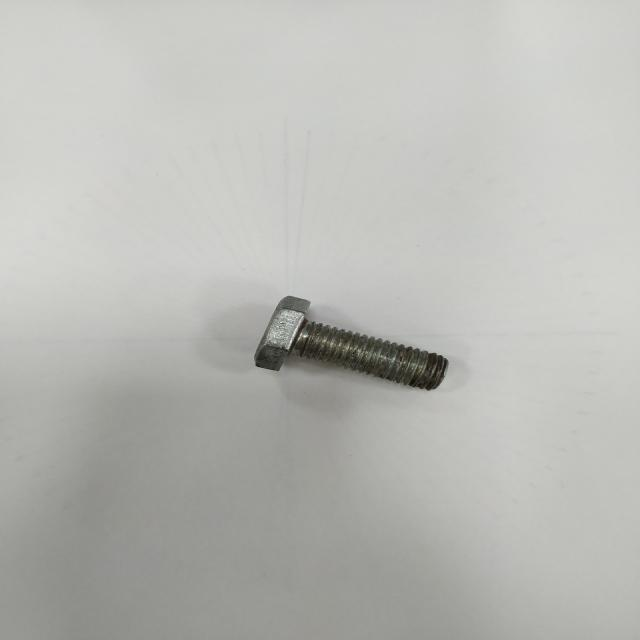Bolt: (255, 296, 448, 389)
